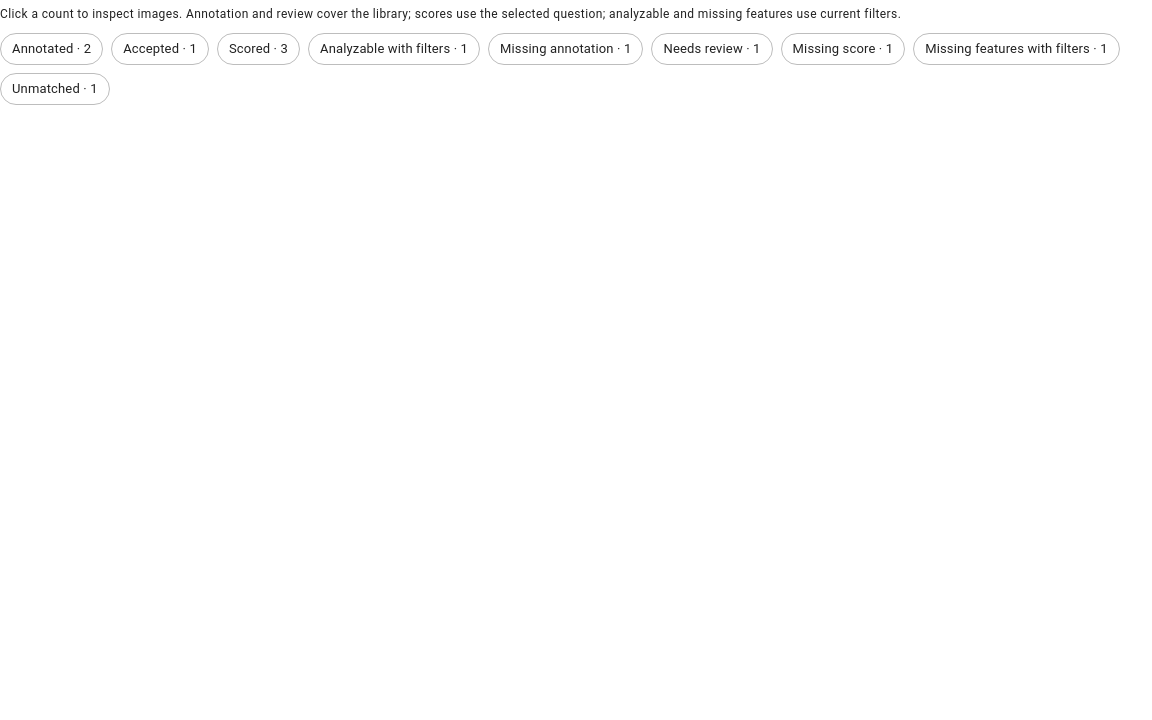
Test case: unmatched historical rows offer inspection without an incorrect annotation jump
This screenshot has width=1152, height=720.
Click the button "Unmatched · 1". click: point(55, 89)
box: left=0, top=73, right=110, bottom=105
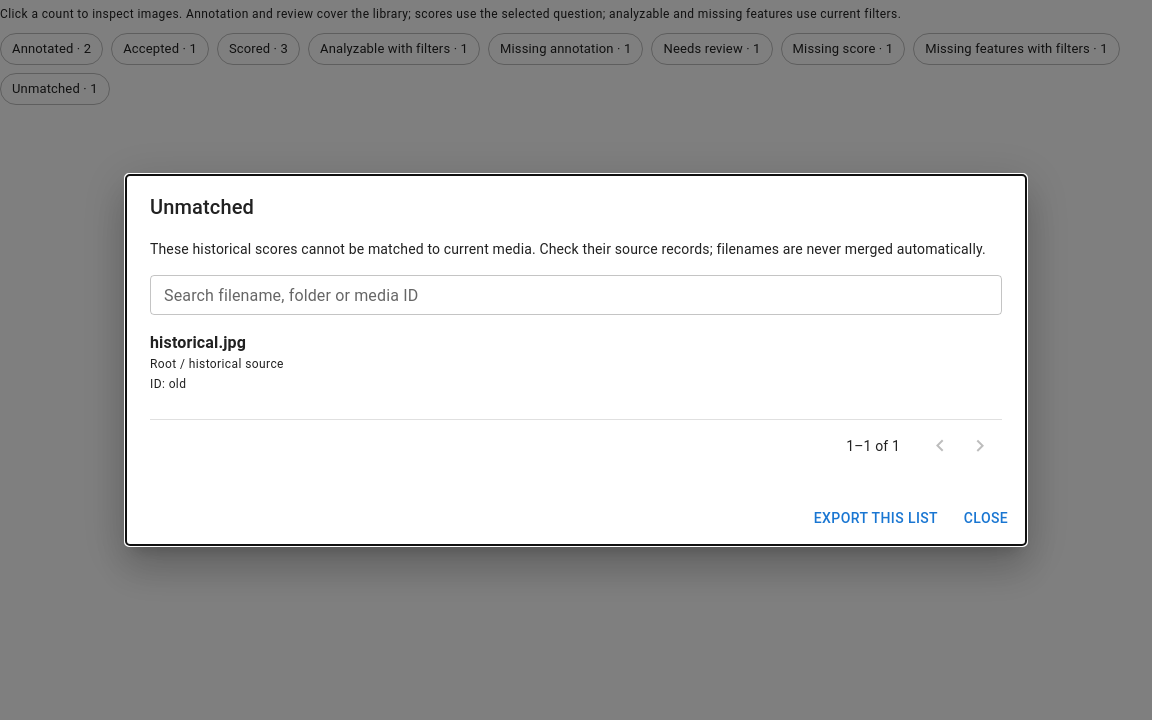
Now the text "ID: old" is shown, box left=150, top=377, right=186, bottom=391
